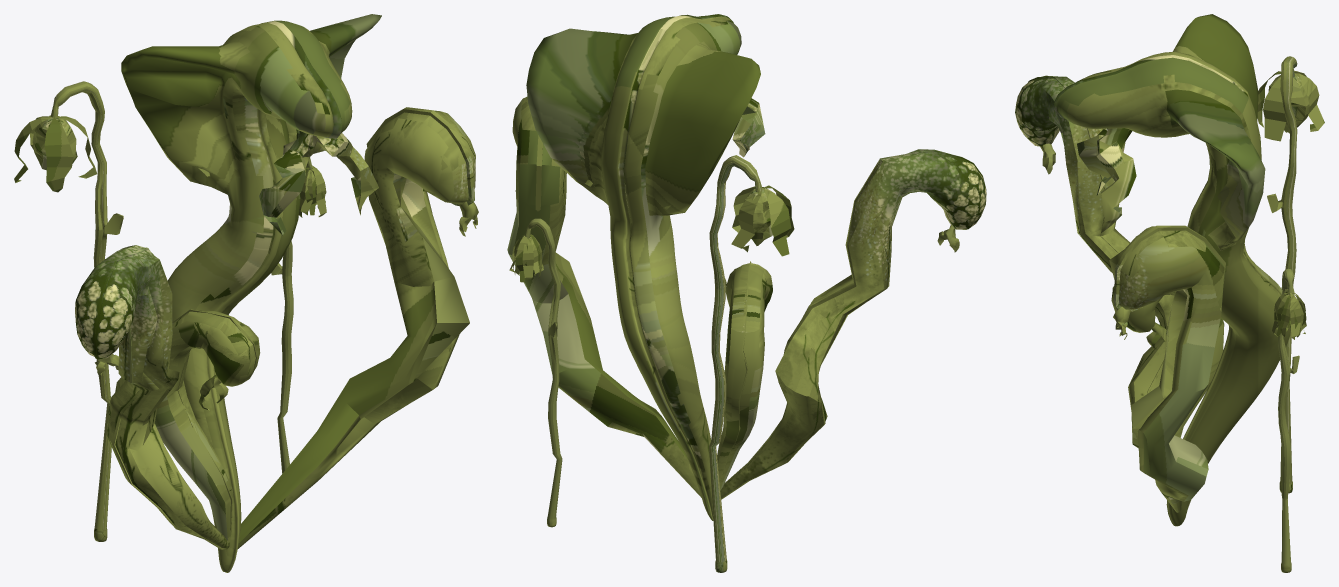
Rendered from Cobra Lily final.fbx.
The picture shows the model from 3 angles, left to right: view 1: azimuth 30°, elevation 25°; view 2: azimuth 150°, elevation 25°; view 3: azimuth 270°, elevation 25°; orthographic projection. The views are drawn at different scales.
Visible parts, largest first — view 1: Cobra_lily_1, Cobra_lily_2, Cobra_lily_4, Cobra_lily_3, Palo_de_capullo, Lengua_cobra_lily_1, Hojas_de_Capullo, Palo_2, capullo, Hojas; view 2: Cobra_lily_1, Cobra_lily_4, Cobra_lily_2, Cobra_lily_3, Palo_de_capullo, Palo_2, Hojas_de_Capullo, Lengua_cobra_lily_1, capullo; view 3: Cobra_lily_1, Cobra_lily_2, Cobra_lily_4, Lengua_cobra_lily_1, Palo_de_capullo, Palo_2, Hojas_de_Capullo, Cobra_lily_3, capullo, Hojas, Hojas2.
Part boxes in pixels (x1,y1,x2,y2): Cobra_lily_1: (121, 14, 381, 572); Cobra_lily_2: (238, 107, 475, 548); Cobra_lily_4: (75, 245, 229, 549); Cobra_lily_3: (155, 309, 260, 543); Palo_de_capullo: (50, 81, 123, 541); Lengua_cobra_lily_1: (259, 129, 378, 235); Hojas_de_Capullo: (14, 116, 97, 192); Palo_2: (271, 157, 312, 473); capullo: (32, 115, 77, 170); Hojas: (299, 165, 326, 217); Cobra_lily_1: (526, 14, 760, 520); Cobra_lily_4: (720, 149, 986, 499); Cobra_lily_2: (507, 96, 701, 497); Cobra_lily_3: (717, 261, 772, 490); Palo_de_capullo: (709, 155, 762, 572); Palo_2: (525, 218, 562, 527); Hojas_de_Capullo: (731, 185, 794, 256); Lengua_cobra_lily_1: (732, 98, 765, 157); capullo: (743, 187, 774, 245); Cobra_lily_1: (1053, 14, 1290, 526); Cobra_lily_2: (1109, 225, 1225, 512); Cobra_lily_4: (1015, 75, 1174, 411); Lengua_cobra_lily_1: (1077, 128, 1136, 232); Palo_de_capullo: (1267, 56, 1297, 493); Palo_2: (1277, 268, 1299, 572); Hojas_de_Capullo: (1257, 70, 1324, 141); Cobra_lily_3: (1111, 286, 1224, 437); capullo: (1268, 75, 1309, 133); Hojas: (1272, 291, 1306, 339); Hojas2: (1274, 294, 1306, 337).
Bounding box in the file's own units: 8.91 × 10.16 × 5.78.
